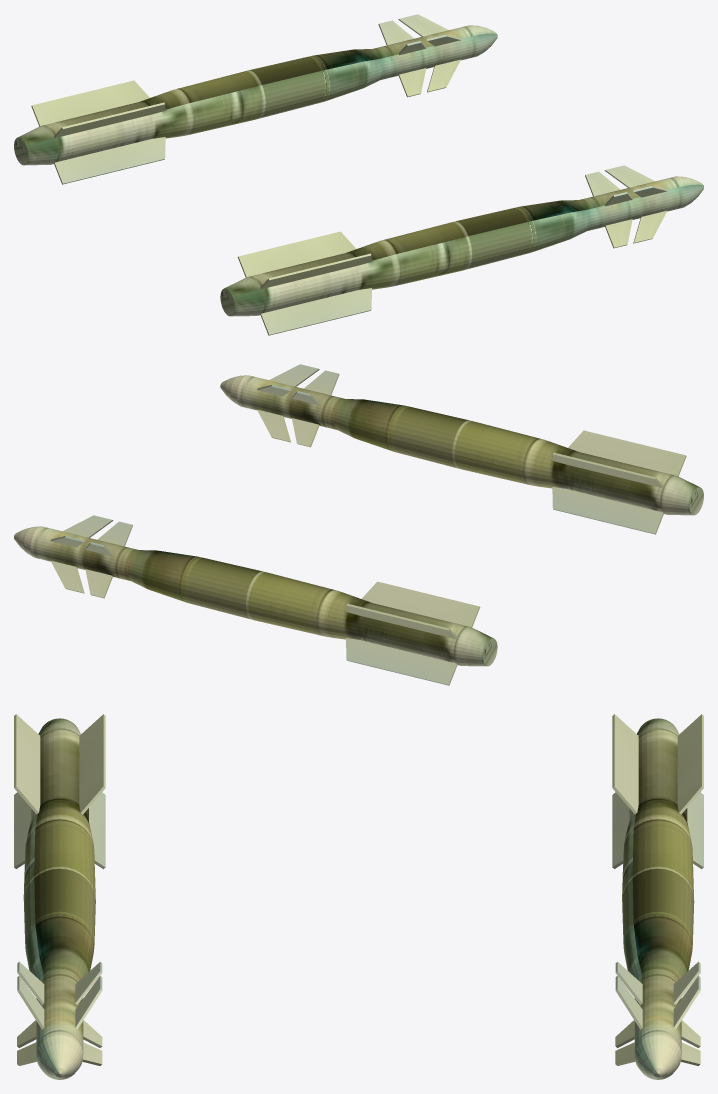
File: m20daasm35.glb
The picture shows the model from 3 angles, top to bottom: view 1: azimuth 30°, elevation 25°; view 2: azimuth 150°, elevation 25°; view 3: azimuth 270°, elevation 25°; orthographic projection. The views are drawn at different scales.
Visible parts, largest first — view 1: 円柱.002, 円柱.003; view 2: 円柱.003, 円柱.002; view 3: 円柱.002, 円柱.003.
Part boxes in pixels (x1,y1,x2,y2): 円柱.002: (220, 165, 703, 335); 円柱.003: (14, 14, 497, 184); 円柱.003: (14, 515, 497, 685); 円柱.002: (220, 364, 703, 534); 円柱.002: (14, 714, 105, 1079); 円柱.003: (612, 714, 703, 1079).
Bounding box in the file's own units: 2.32 × 0.267 × 2.01.
2 materials, 2 textured.
